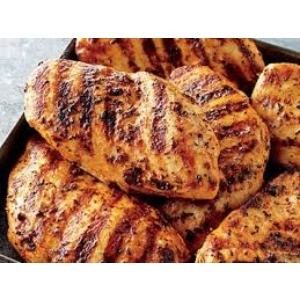chicken breast_brain food: (68, 96, 154, 145), (24, 189, 81, 252), (230, 110, 258, 169), (220, 217, 265, 249)
